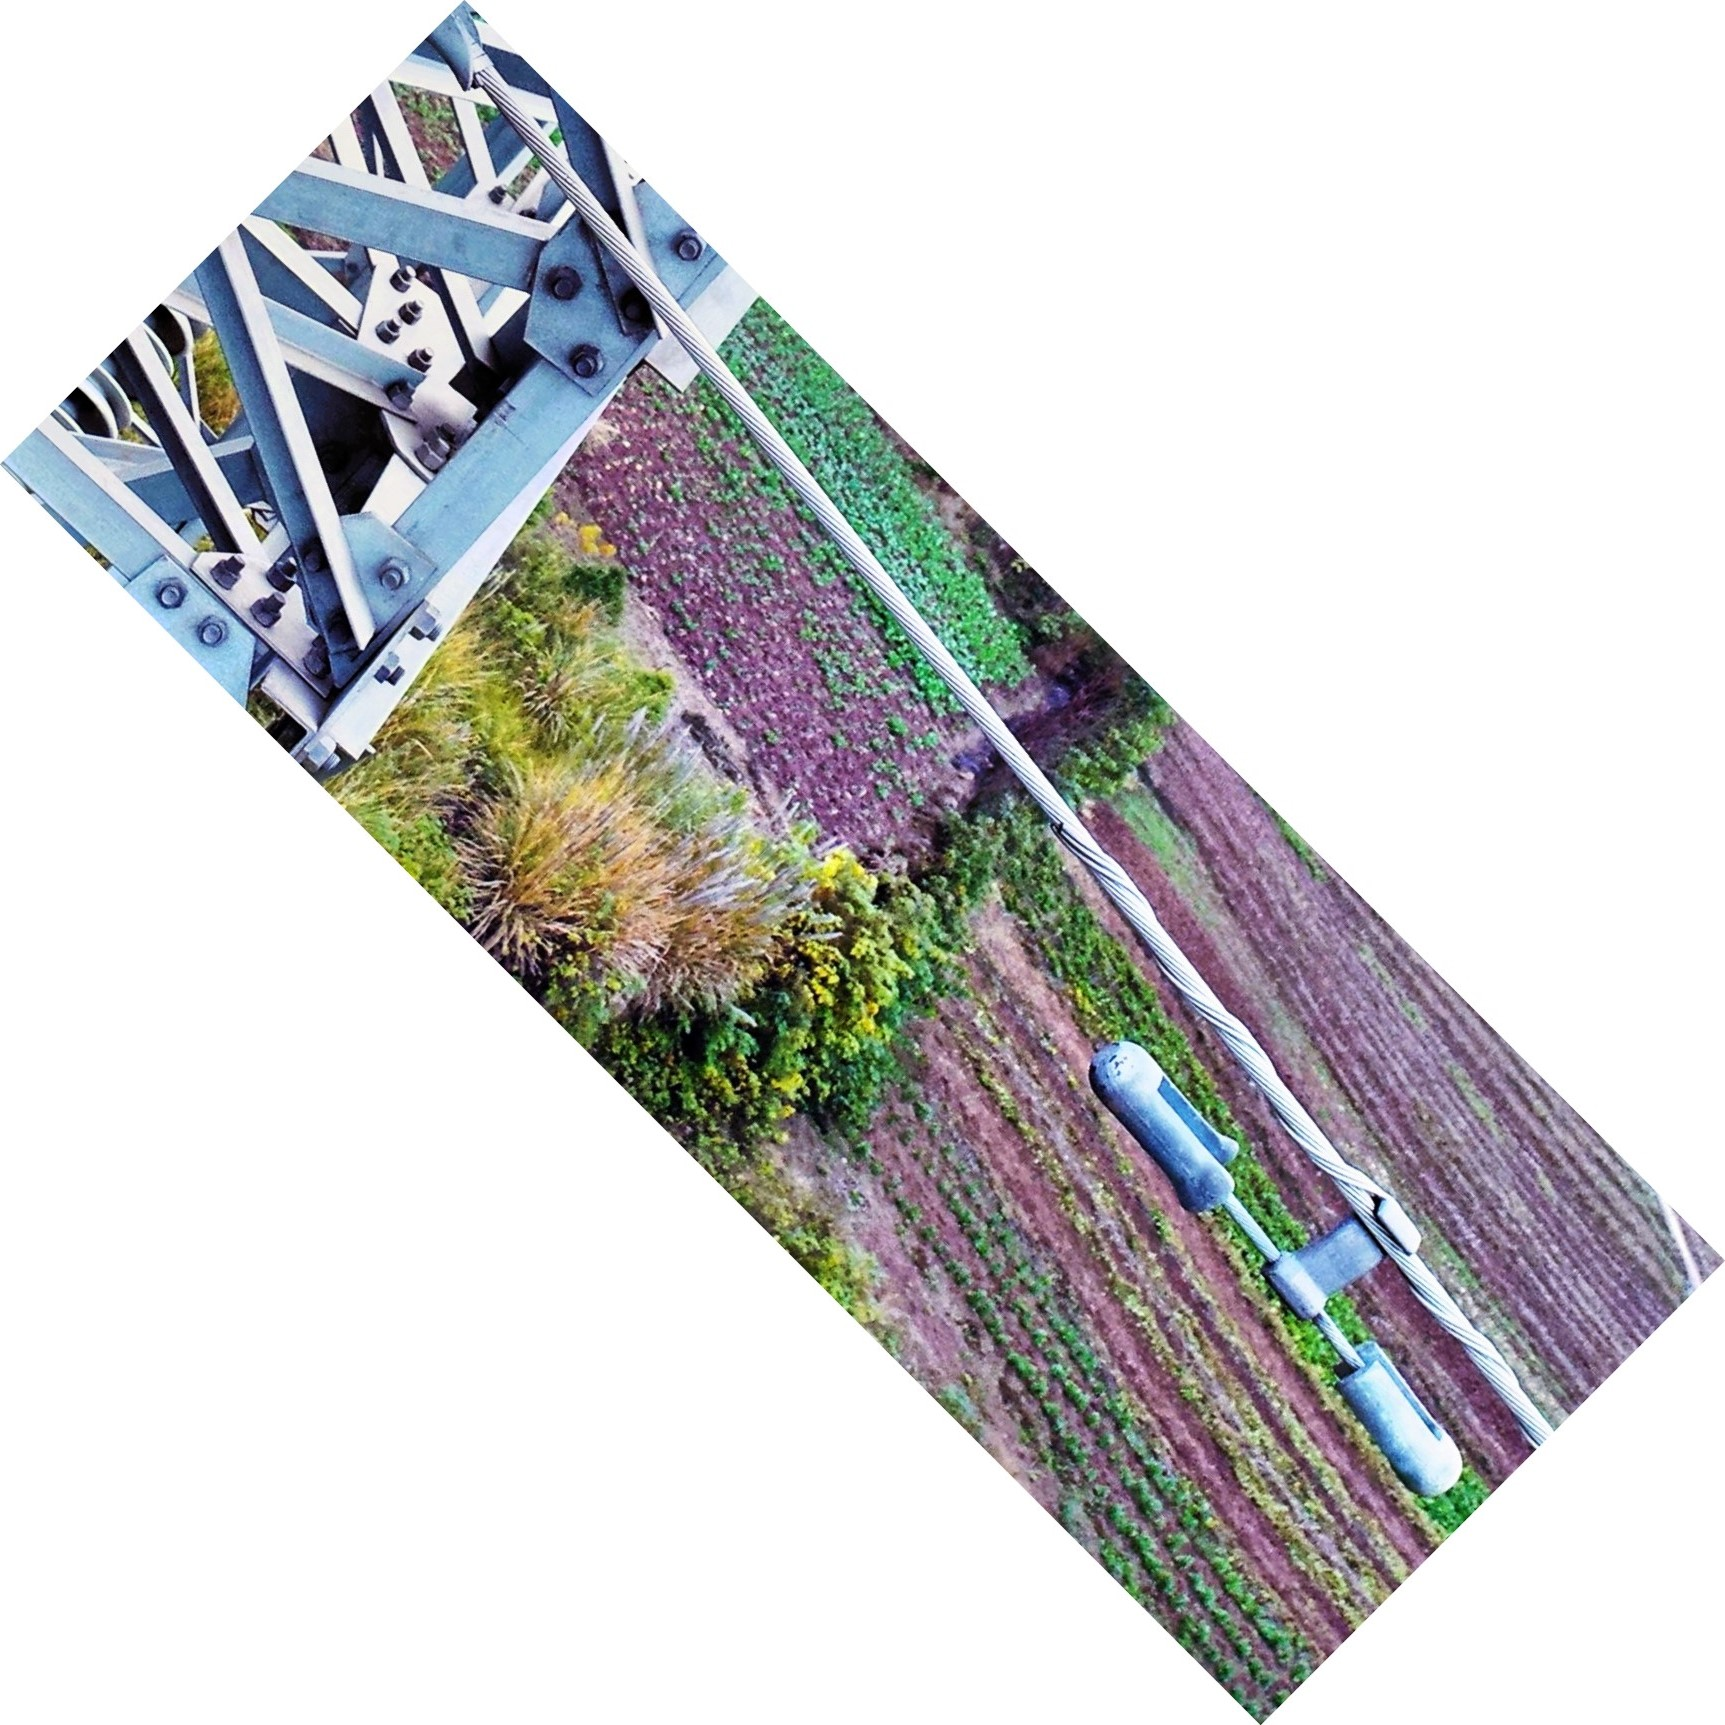Shockproof hammer: (1073, 992, 1502, 1512)
